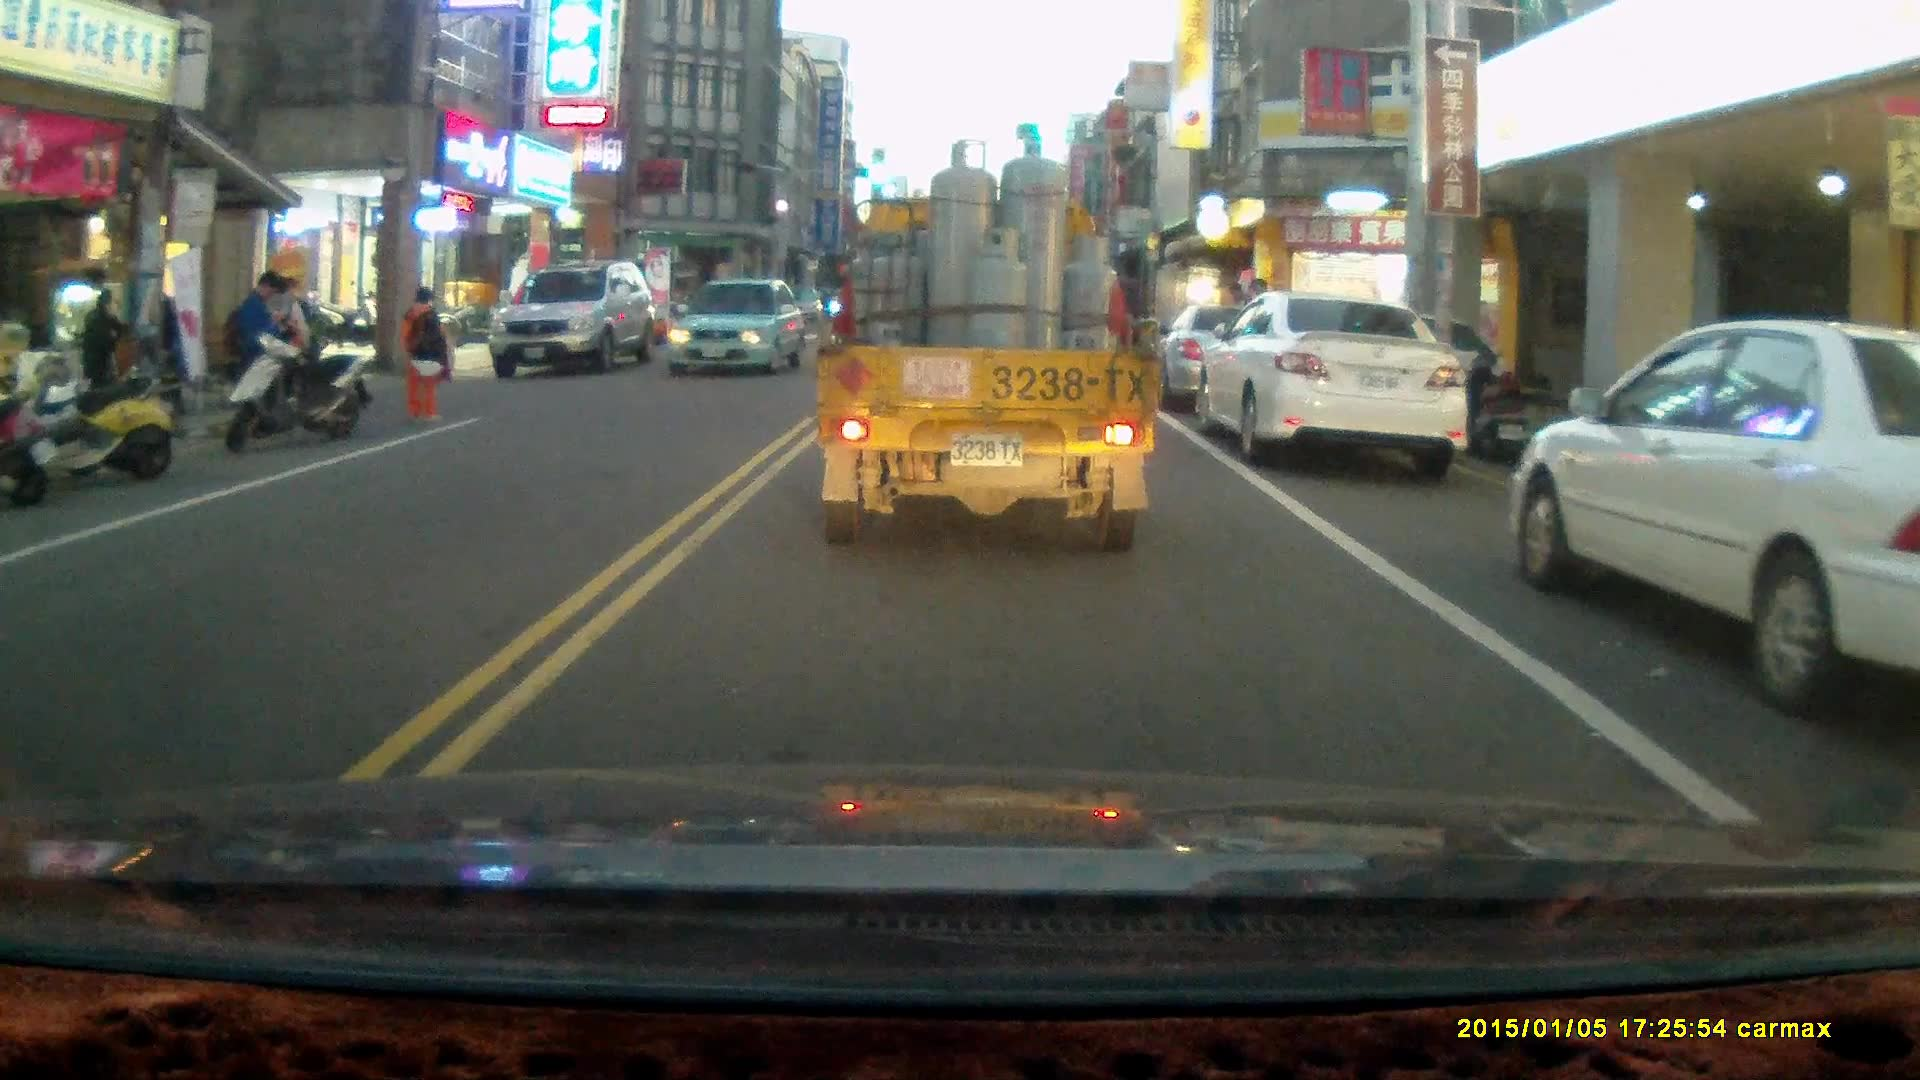pedestrian: (214, 272, 286, 440), (395, 284, 457, 420), (75, 284, 121, 440)
vehicle: (1506, 318, 1920, 718), (815, 134, 1166, 557), (1195, 291, 1469, 472), (1147, 300, 1351, 418), (490, 261, 657, 383), (666, 279, 805, 380)
